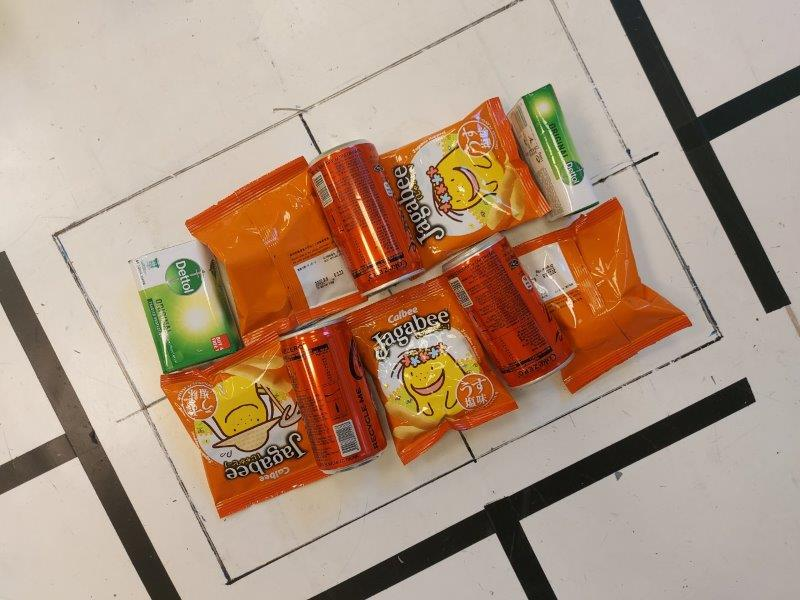Coke: (444, 234, 578, 389), (306, 139, 428, 293), (280, 317, 390, 475)
Dettol: (129, 241, 246, 374), (508, 84, 601, 221)
Jagabee: (504, 200, 695, 393), (183, 156, 369, 345), (346, 274, 519, 465), (158, 332, 333, 520), (369, 97, 550, 278)
